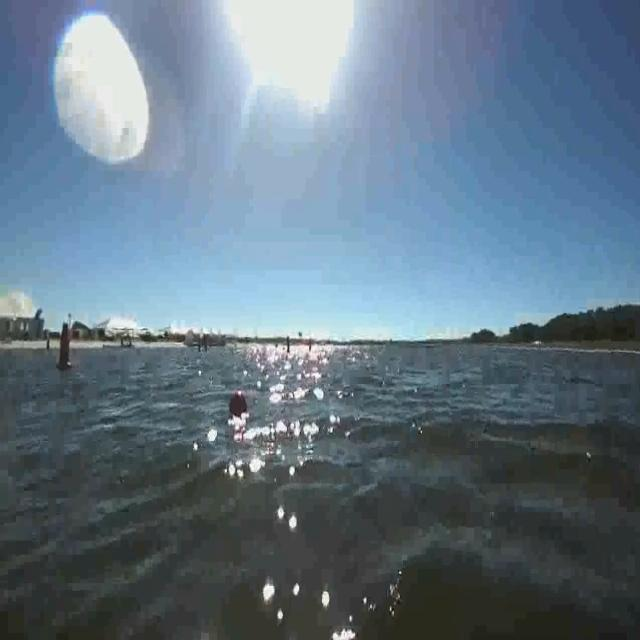red-buoy: (226, 388, 248, 420)
